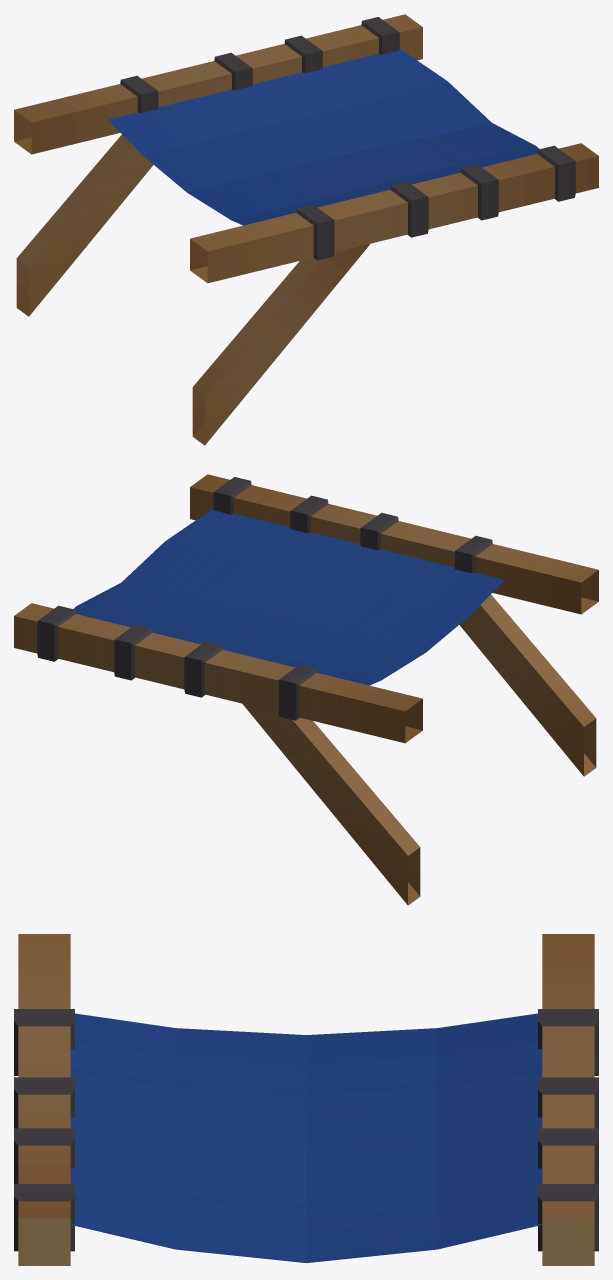
Rendered from Fabrics_1_LOD1.fbx.
3 renders of one model, top to bottom at view 1: azimuth 30°, elevation 25°; view 2: azimuth 150°, elevation 25°; view 3: azimuth 270°, elevation 25°, orthographic. The views are drawn at different scales.
Parts seen in each view (by area): view 1: polySurface9746; view 2: polySurface9746; view 3: polySurface9746.
Boxes of the visible parts, x1,y1,x2,y2 form: polySurface9746: [14, 14, 598, 445]; polySurface9746: [14, 474, 598, 905]; polySurface9746: [14, 934, 598, 1265].
Bounding box in the file's own units: 308 × 150 × 268.
